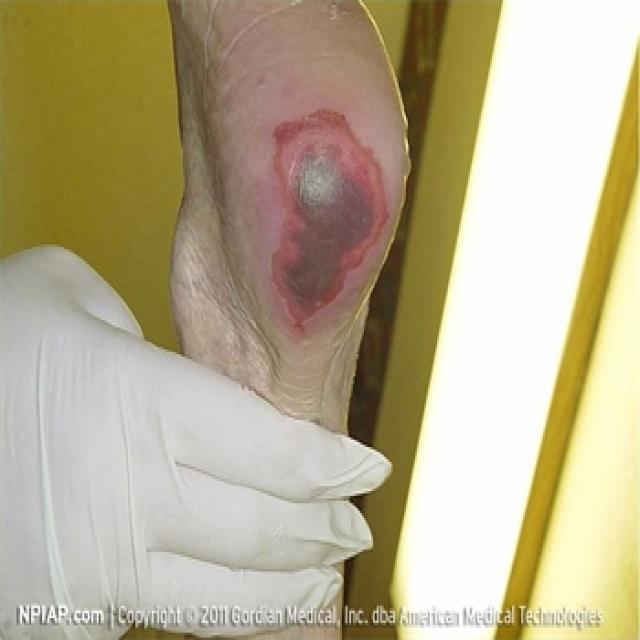DTI: (272, 123, 384, 327)
